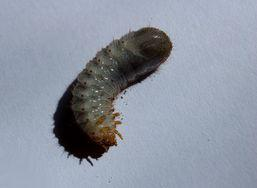grub: (69, 24, 190, 151)
